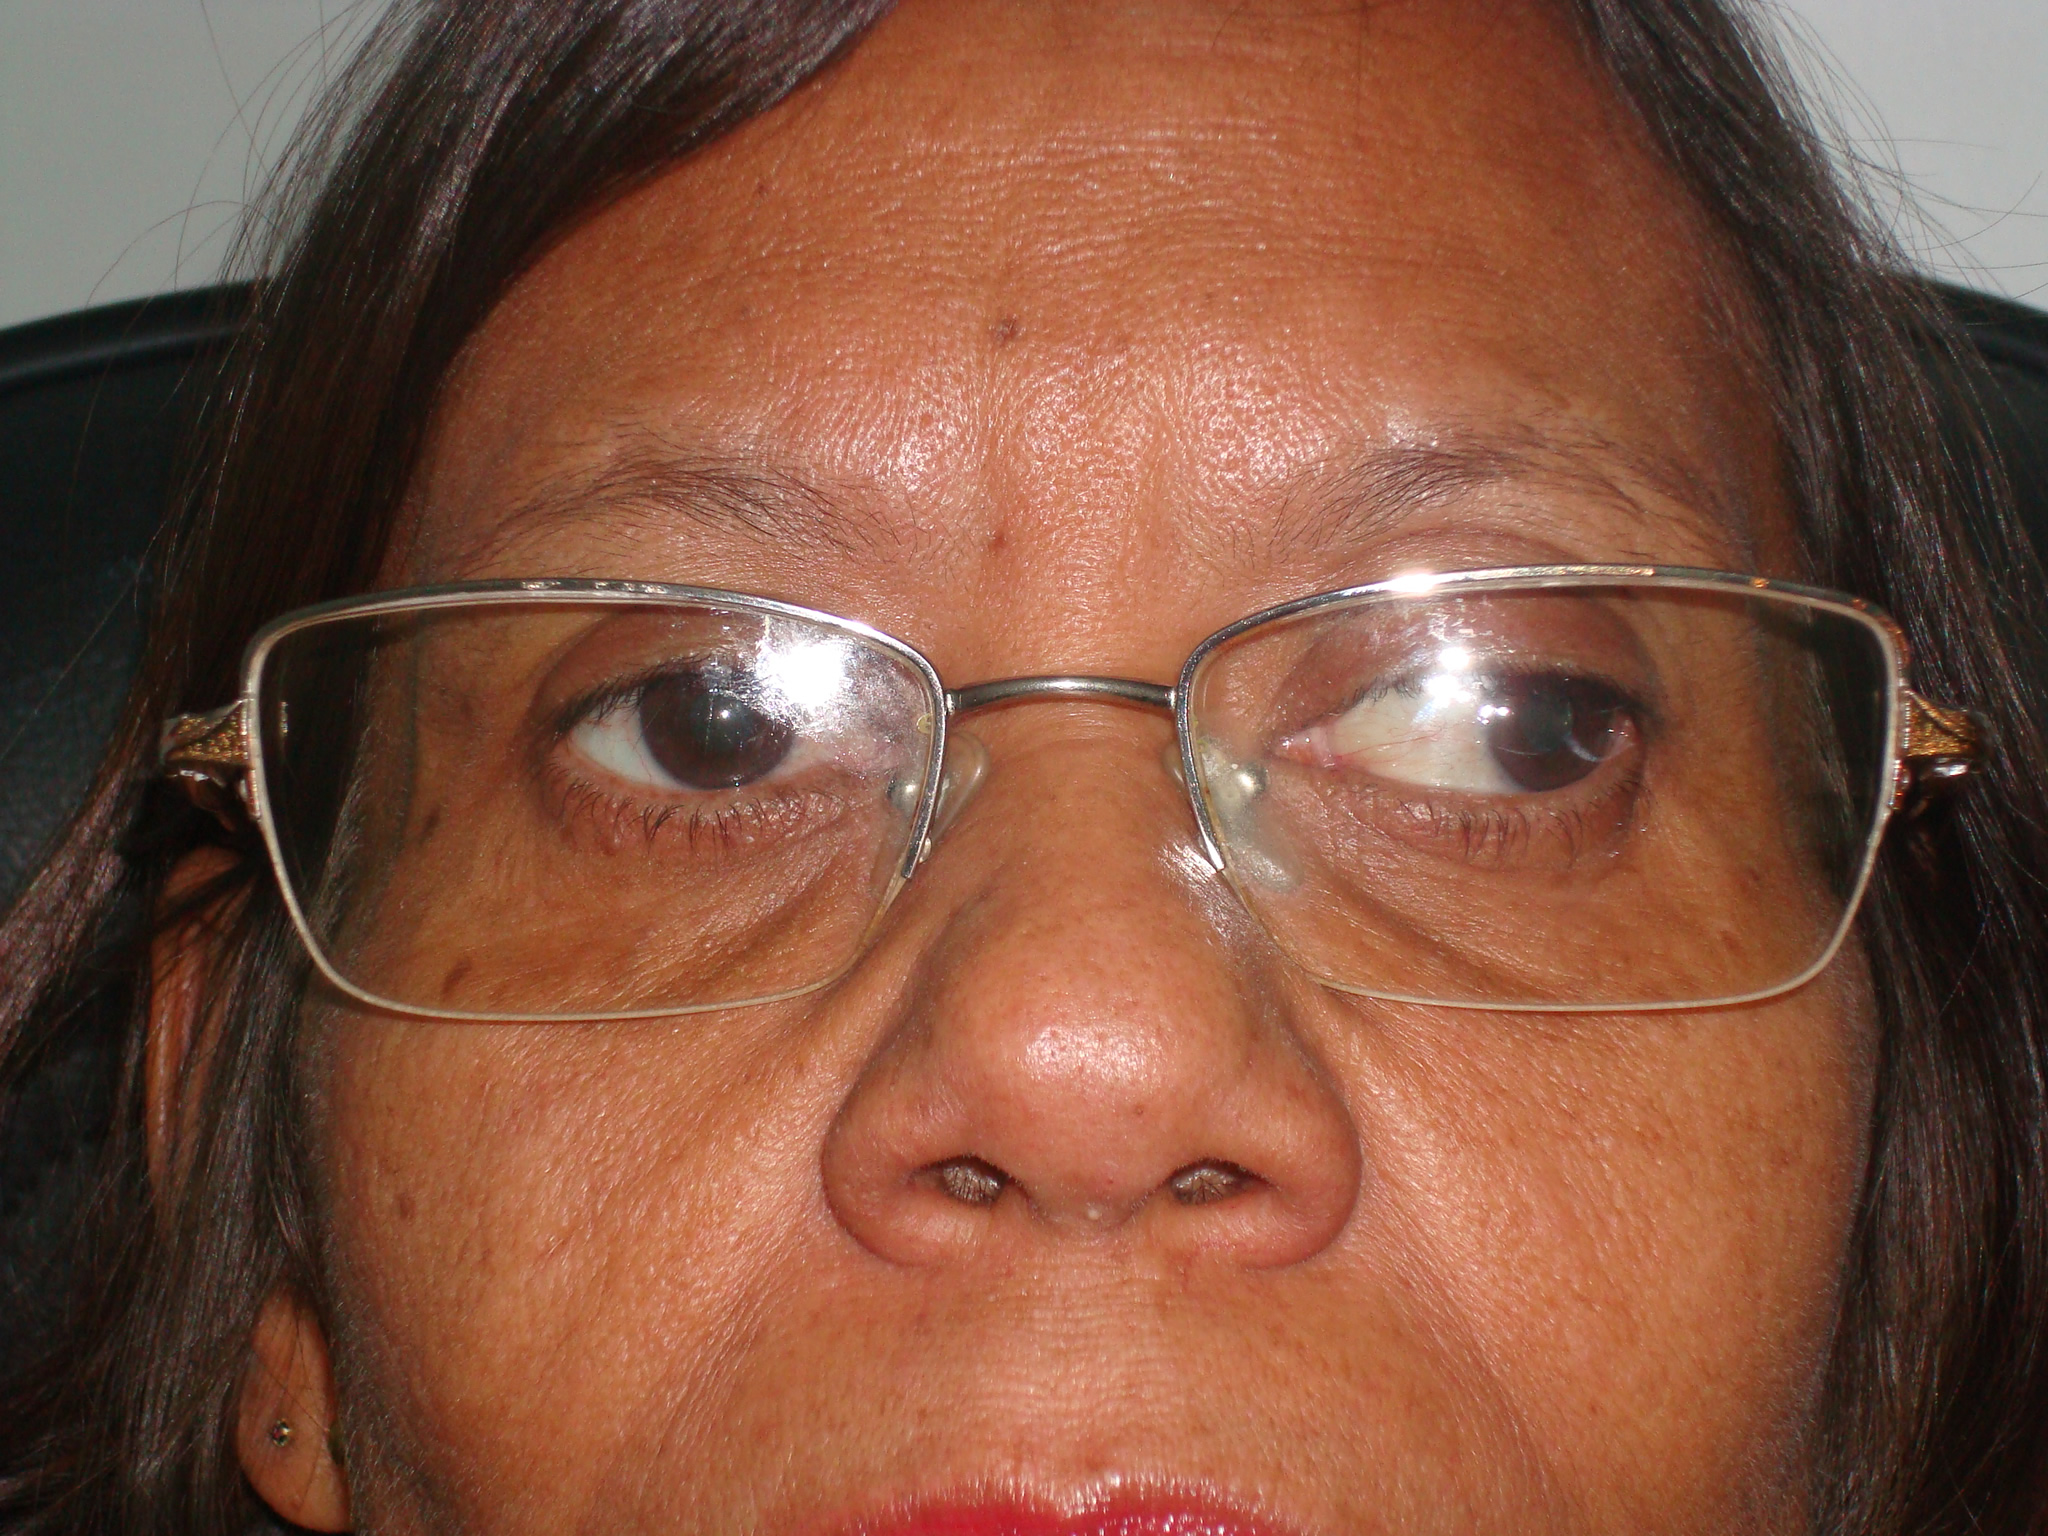flash: (713, 700, 737, 726), (1495, 700, 1513, 720)
limbo: (642, 647, 797, 789), (1480, 657, 1609, 783)
